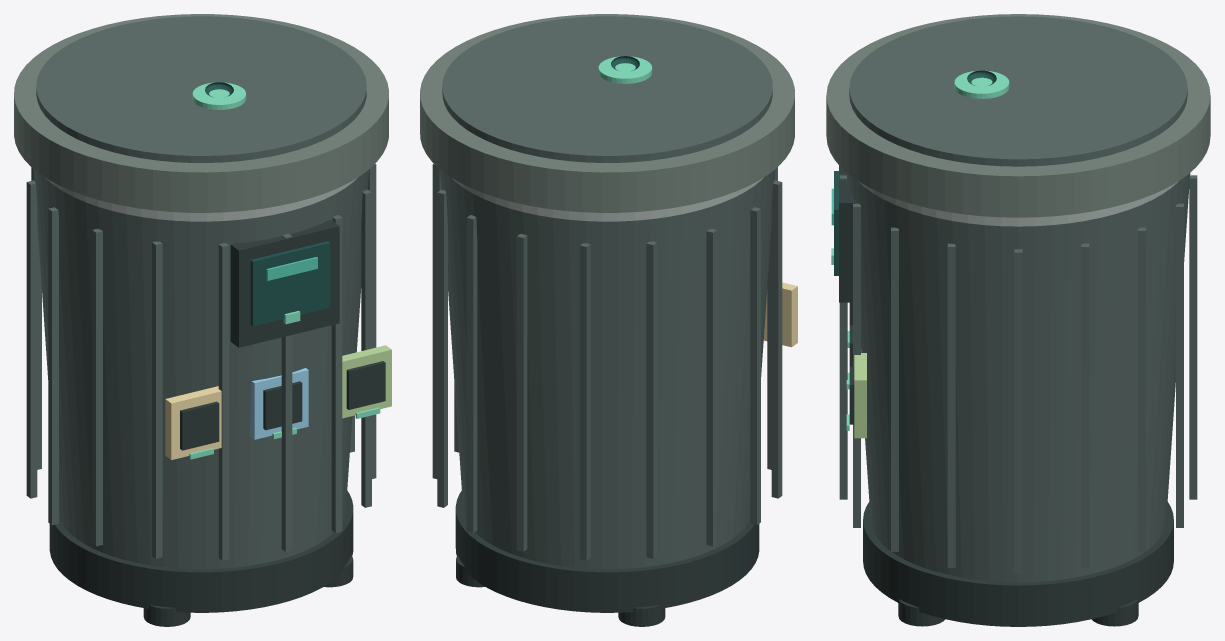
3 views of the same model, side by side, from view 1: azimuth 30°, elevation 25°; view 2: azimuth 150°, elevation 25°; view 3: azimuth 270°, elevation 25° (orthographic). The views are drawn at different scales.
Visible parts, largest first — view 1: Tapered recycled polymer shell, Lid top inset, Reinforced vertical rib (×10), Sealed smart lid, Rubber base ring, Control panel bezel, Touch display, Upper stainless rim, Paper sorting slot trim, Plastic sorting slot trim, Paper dark intake, Organic dark intake (+5 smaller); view 2: Tapered recycled polymer shell, Lid top inset, Reinforced vertical rib (×10), Sealed smart lid, Rubber base ring, Upper stainless rim, Paper sorting slot trim, Mint sensor halo, Anti slip foot; view 3: Tapered recycled polymer shell, Lid top inset, Sealed smart lid, Reinforced vertical rib (×9), Rubber base ring, Upper stainless rim, Control panel bezel, Anti slip foot (×2), Mint sensor halo, Organic sorting slot trim.
Boxes of the visible parts, box(x1,y1,x2,y2) form: Tapered recycled polymer shell: box(33, 169, 369, 569); Lid top inset: box(36, 16, 366, 162); Reinforced vertical rib (×10): box(26, 163, 376, 560); Sealed smart lid: box(14, 14, 388, 212); Rubber base ring: box(49, 491, 353, 612); Control panel bezel: box(230, 220, 339, 347); Touch display: box(250, 241, 330, 326); Upper stainless rim: box(45, 177, 357, 221); Paper sorting slot trim: box(165, 386, 221, 459); Plastic sorting slot trim: box(249, 368, 308, 439); Paper dark intake: box(180, 401, 219, 450); Organic dark intake: box(346, 361, 385, 409); Tapered recycled polymer shell: box(439, 169, 775, 569); Lid top inset: box(442, 16, 772, 162); Reinforced vertical rib (×10): box(432, 164, 782, 560); Sealed smart lid: box(420, 14, 794, 212); Rubber base ring: box(455, 490, 759, 612); Upper stainless rim: box(451, 177, 763, 221); Paper sorting slot trim: box(763, 282, 797, 347); Mint sensor halo: box(598, 56, 652, 83); Anti slip foot: box(618, 605, 665, 626); Tapered recycled polymer shell: box(846, 173, 1190, 582); Lid top inset: box(849, 16, 1187, 166); Sealed smart lid: box(826, 14, 1210, 217); Reinforced vertical rib (×9): box(839, 175, 1197, 573); Rubber base ring: box(863, 502, 1173, 626); Upper stainless rim: box(858, 181, 1178, 226); Control panel bezel: box(839, 165, 855, 302); Anti slip foot (×2): box(898, 599, 1138, 626); Mint sensor halo: box(954, 70, 1009, 98); Organic sorting slot trim: box(854, 353, 866, 438).
Size of the model in its own units: 1.68 by 2.42 by 1.68.
